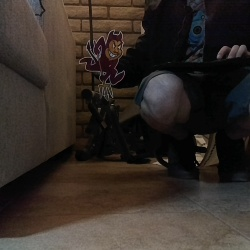sparky: (78, 29, 125, 100)
